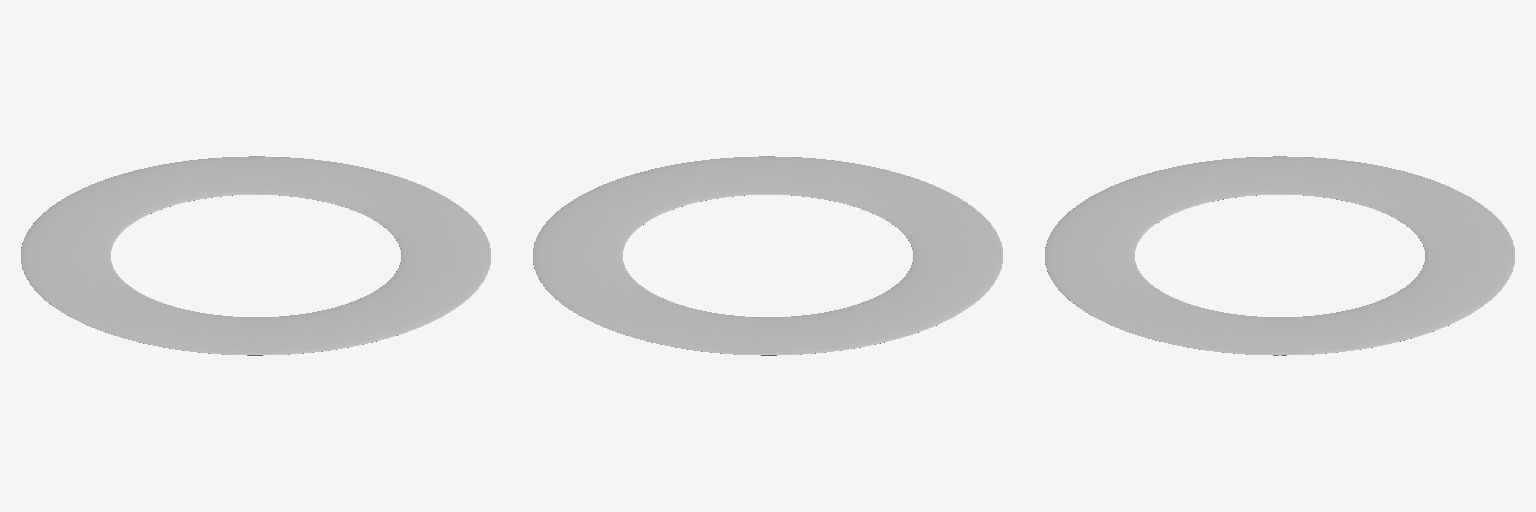
The model's file is SaturnRing.obj.
3 renders of one model, left to right at view 1: azimuth 30°, elevation 25°; view 2: azimuth 150°, elevation 25°; view 3: azimuth 270°, elevation 25°, orthographic.
Visible parts, largest first — view 1: Saturn_Ring; view 2: Saturn_Ring; view 3: Saturn_Ring.
Boxes of the visible parts, box(x1,y1,x2,y2) form: Saturn_Ring: box(21, 156, 490, 355); Saturn_Ring: box(533, 156, 1002, 355); Saturn_Ring: box(1045, 156, 1514, 355).
Bounding box in the file's own units: 7.2 × 0.0577 × 7.2.